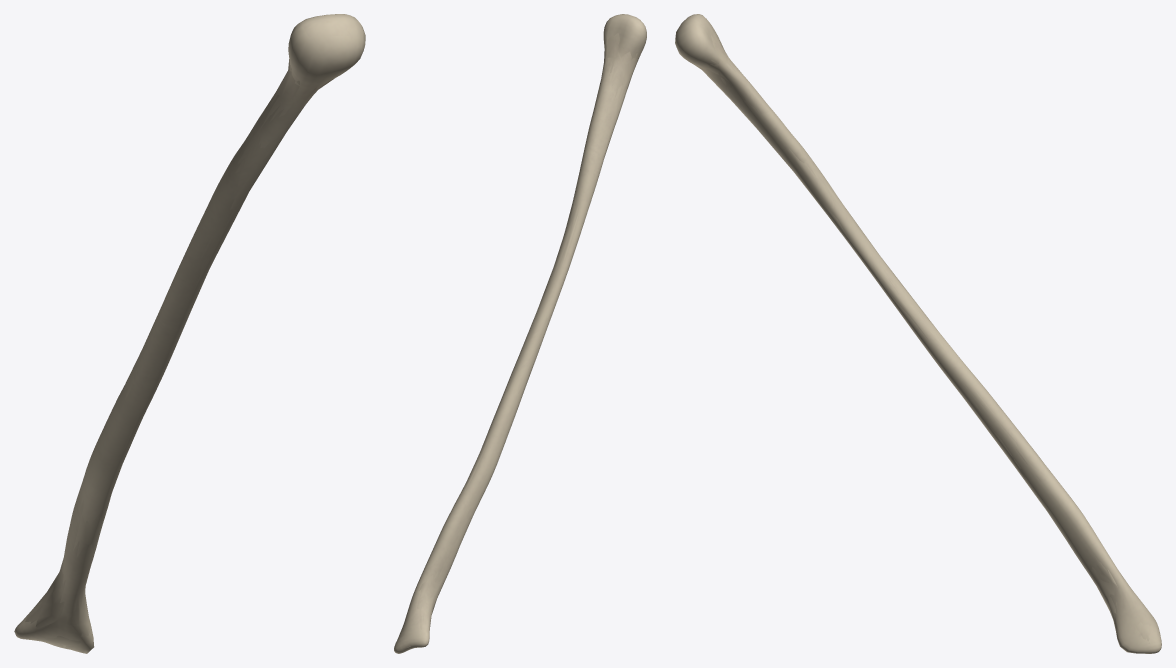
File: L Fibula.fbx
3 renders of one model, left to right at view 1: azimuth 30°, elevation 25°; view 2: azimuth 150°, elevation 25°; view 3: azimuth 270°, elevation 25°, orthographic. The views are drawn at different scales.
Visible parts, largest first — view 1: L Fibula high, L Fibula low; view 2: L Fibula high, L Fibula low; view 3: L Fibula high, L Fibula low.
Boxes of the visible parts, x1=… form: L Fibula high: x1=14, y1=14, x2=365, y2=653; L Fibula low: x1=25, y1=59, x2=334, y2=648; L Fibula high: x1=394, y1=14, x2=646, y2=653; L Fibula low: x1=398, y1=33, x2=639, y2=650; L Fibula high: x1=675, y1=14, x2=1161, y2=653; L Fibula low: x1=695, y1=35, x2=1150, y2=643.
Size of the model in its own units: 3.74 by 28.34 by 20.44.
